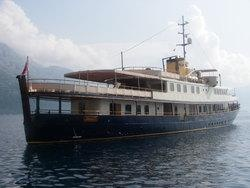youlun: (21, 50, 242, 138)
